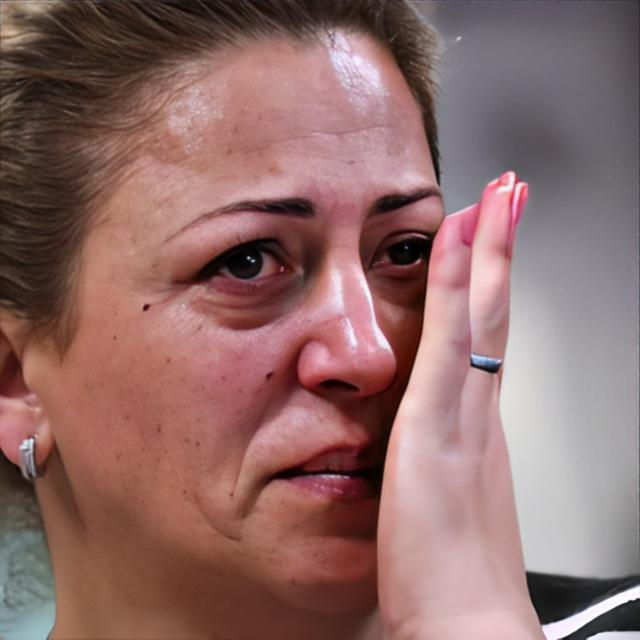sad: (58, 20, 446, 618)
